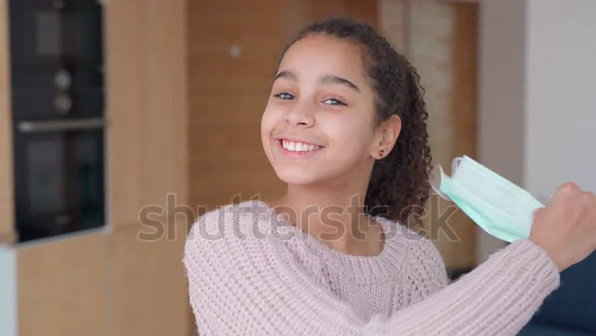No Mask: (244, 116, 368, 191)
